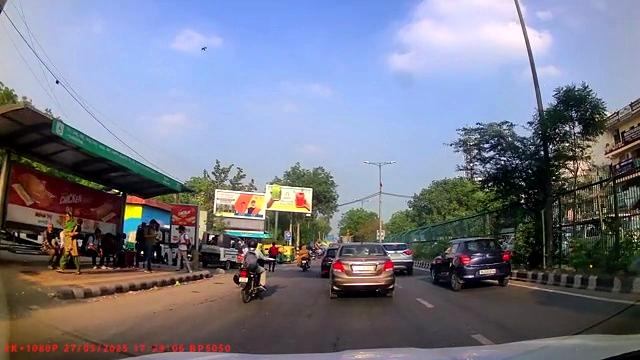motorcycle_with_helmet: (235, 237, 268, 304)
